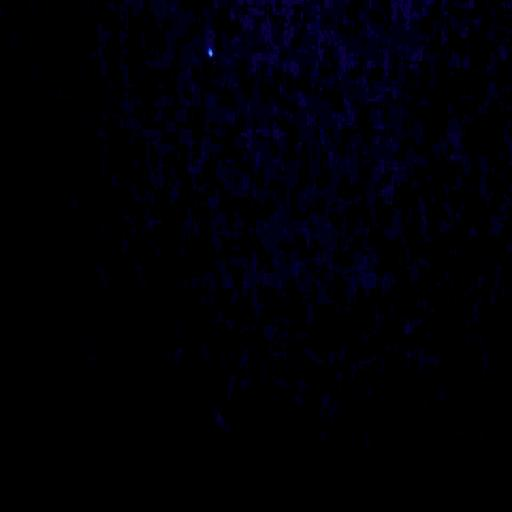object-detection-project: (208, 48, 213, 56)
